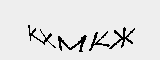Ж: (112, 24, 139, 50)
К: (89, 30, 112, 54), (27, 24, 39, 47)
М: (54, 33, 90, 58)
Х: (39, 28, 58, 52)
